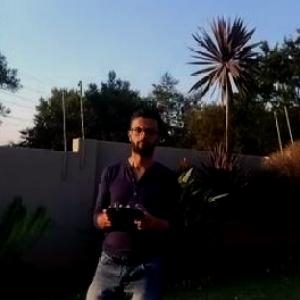follow: (77, 100, 181, 299)
